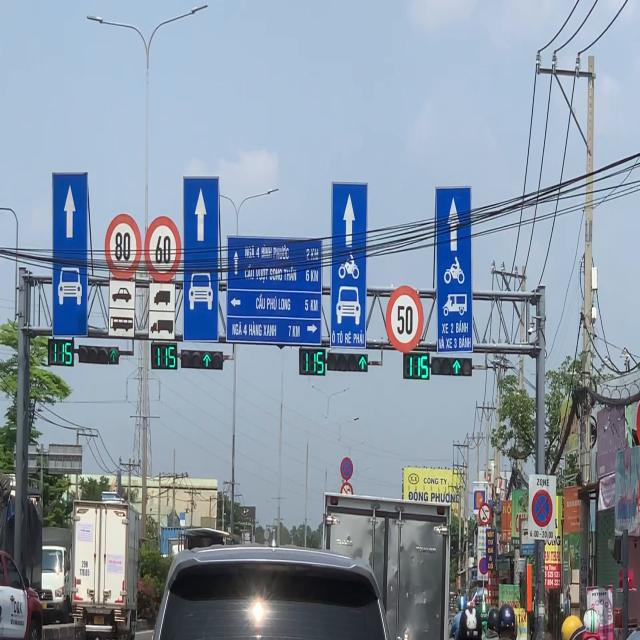Cam con lai: (478, 501, 492, 526)
Cam dung va do: (530, 488, 554, 529), (339, 455, 353, 481)
Toc do toi da: (144, 216, 182, 282), (104, 212, 140, 281), (386, 286, 422, 354)
